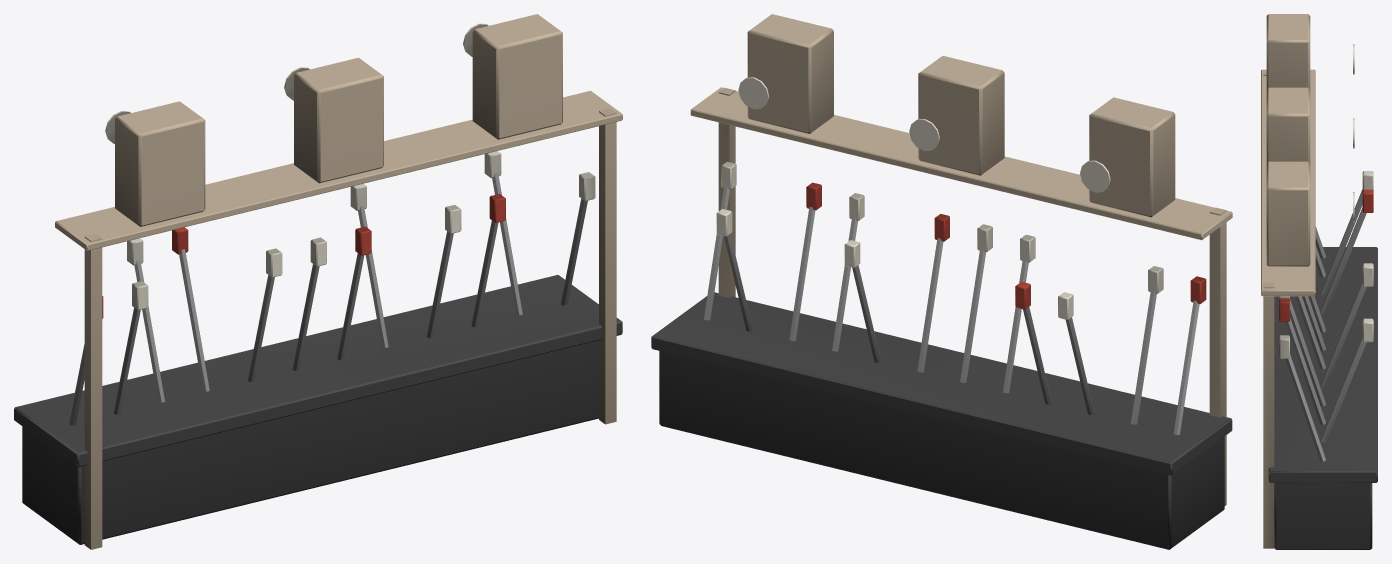
The model's file is lever_frame.glb.
3 renders of one model, left to right at view 1: azimuth 30°, elevation 25°; view 2: azimuth 150°, elevation 25°; view 3: azimuth 270°, elevation 25°, orthographic. The views are drawn at different scales.
Parts seen in each view (by area): view 1: static; view 2: static; view 3: static.
Part boxes in pixels (x1,y1,x2,y2): static: [14, 14, 622, 549]; static: [651, 14, 1232, 549]; static: [1261, 14, 1377, 549].
Bounding box in the file's own units: 2.44 × 1.72 × 0.535.
